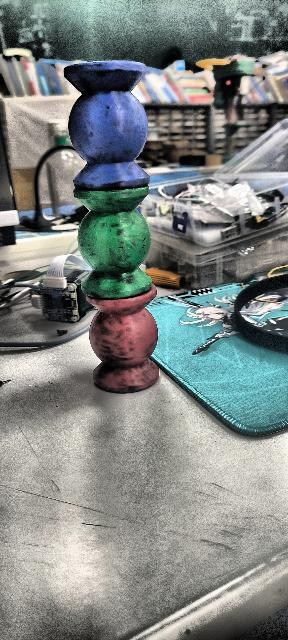blue: (64, 60, 150, 190)
green: (73, 186, 156, 304)
red: (82, 289, 160, 395)
